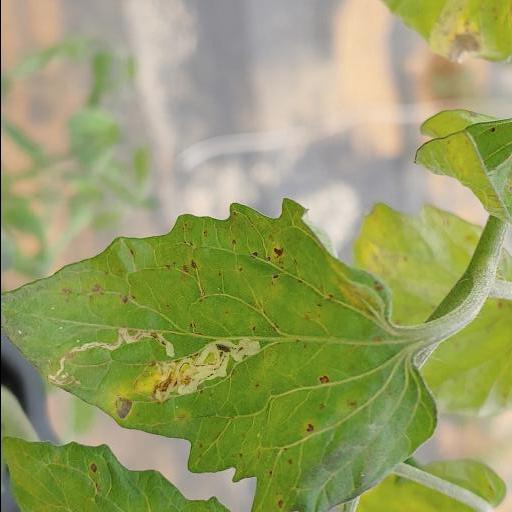Leaf Miner: (1, 195, 435, 509)
